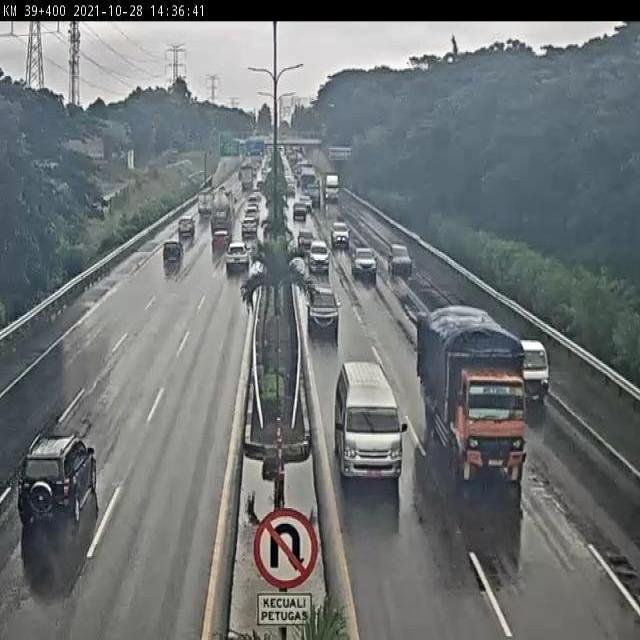big truck: (419, 307, 535, 497)
car: (32, 428, 100, 523), (525, 338, 552, 411), (307, 288, 343, 339), (355, 238, 379, 294), (156, 232, 186, 267), (308, 242, 334, 274), (338, 216, 358, 251), (392, 241, 408, 275), (232, 244, 249, 272), (179, 212, 190, 239)
small bus: (339, 367, 397, 484)
